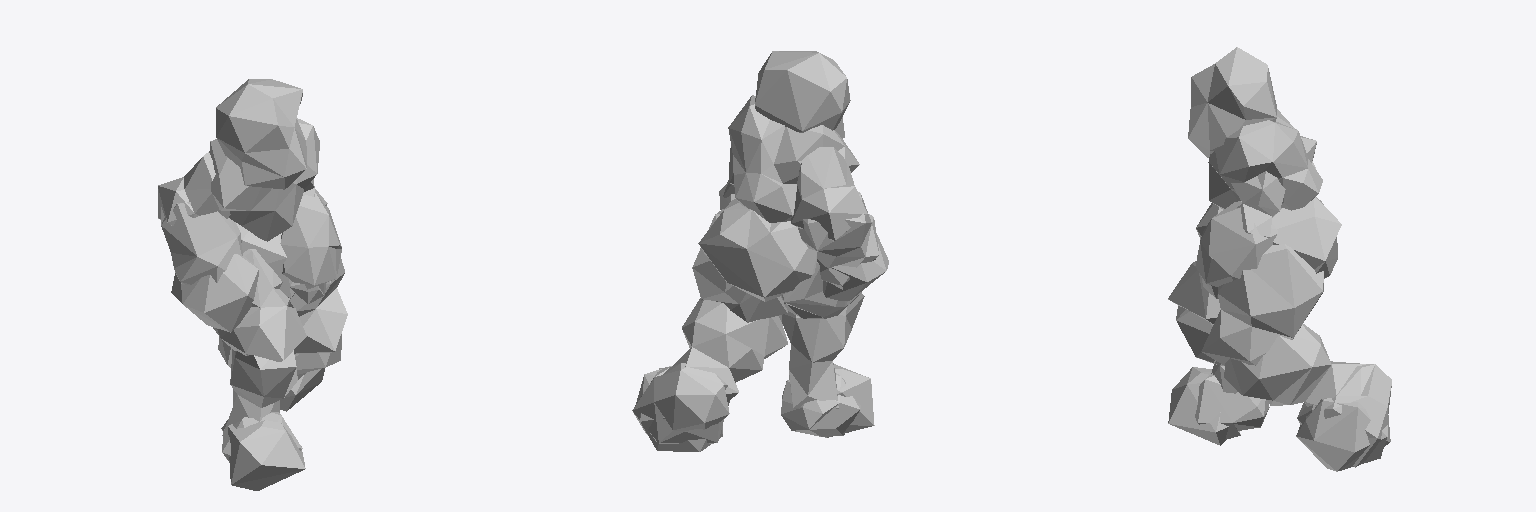
The model's file is dance_frames0369.obj.
The picture shows the model from 3 angles: view 1: azimuth 30°, elevation 25°; view 2: azimuth 150°, elevation 25°; view 3: azimuth 270°, elevation 25°; orthographic projection.
Visible parts, largest first — view 1: Beta_Surface; view 2: Beta_Surface; view 3: Beta_Surface.
Part boxes in pixels (x1,y1,x2,y2): Beta_Surface: (158, 79, 347, 490); Beta_Surface: (632, 51, 888, 451); Beta_Surface: (1168, 47, 1391, 471).
Size of the model in its own units: 0.9892 by 1.91 by 0.9995.